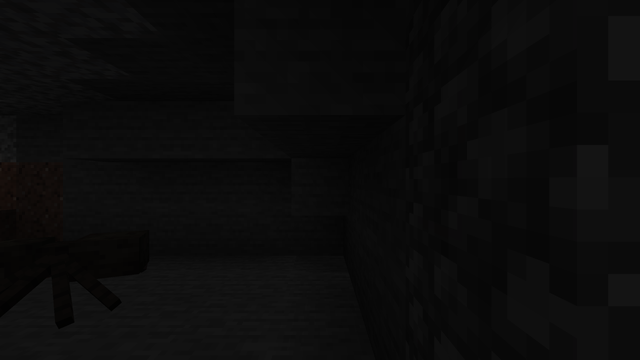araignees: (30, 224, 147, 328)
